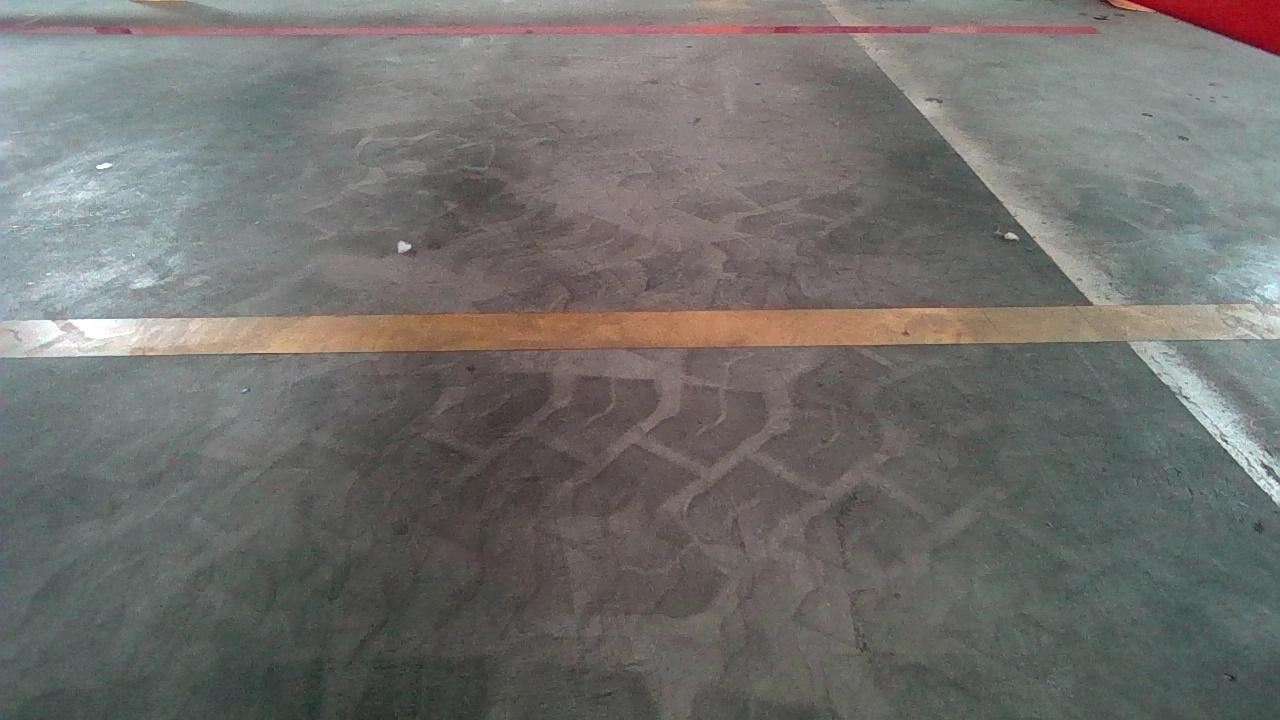red_line: (0, 23, 1101, 38)
